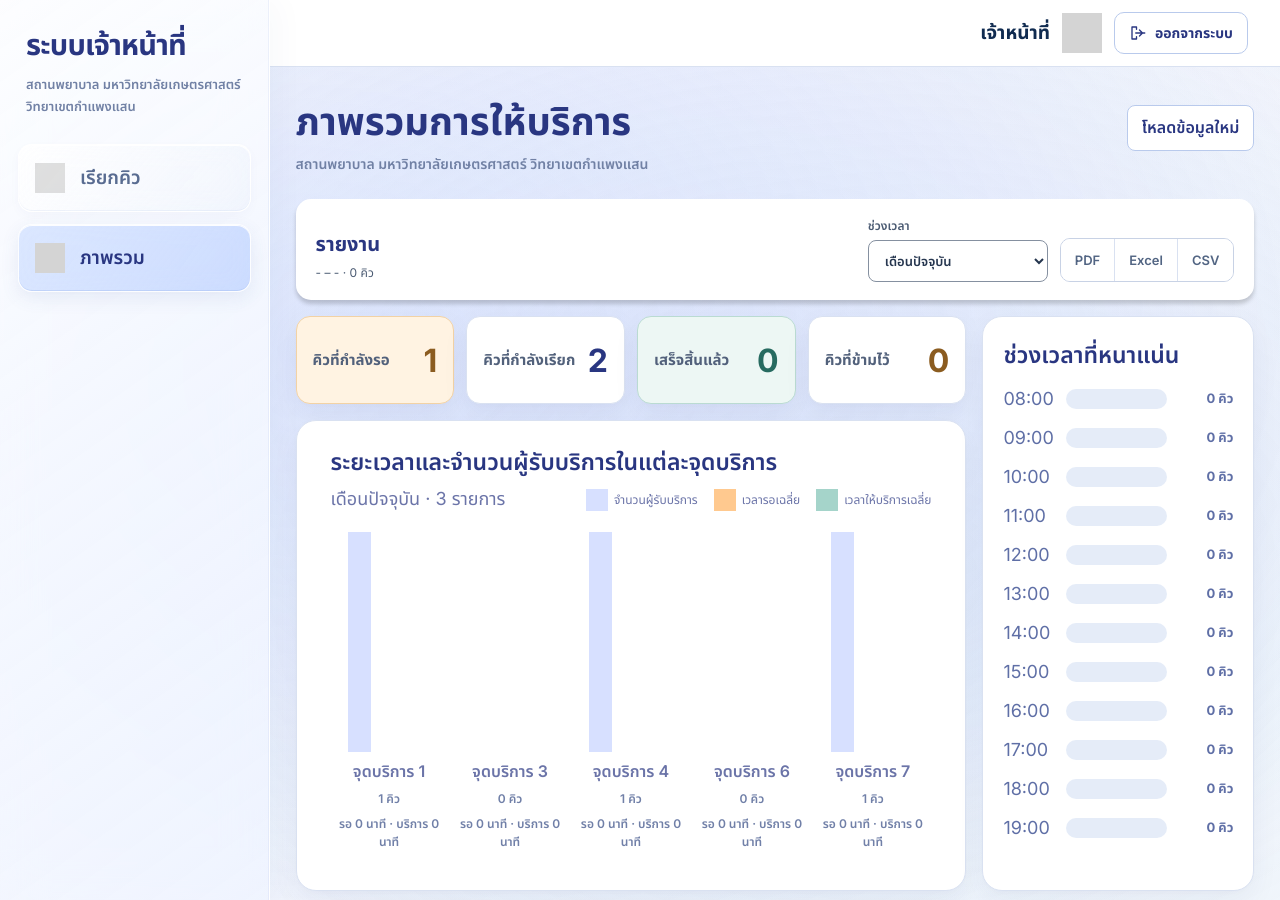
it: application routes › shows an export error returned by the report generator
The image size is (1280, 900).
Click the button "Excel" at {"x": 1147, "y": 260}, box [1115, 239, 1178, 281]
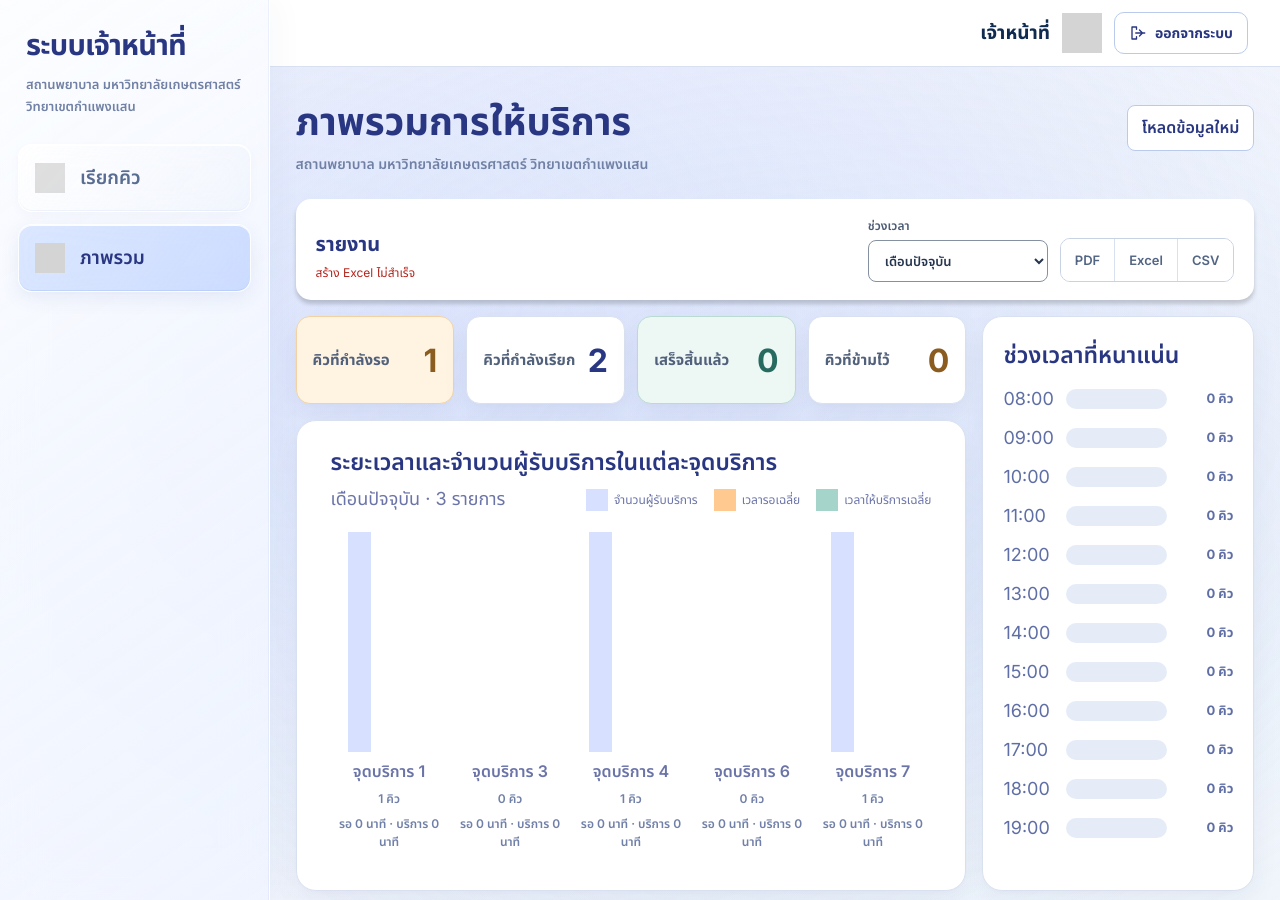
expect the text "สร้าง Excel ไม่สำเร็จ" is shown: met, box [316, 265, 415, 280]
